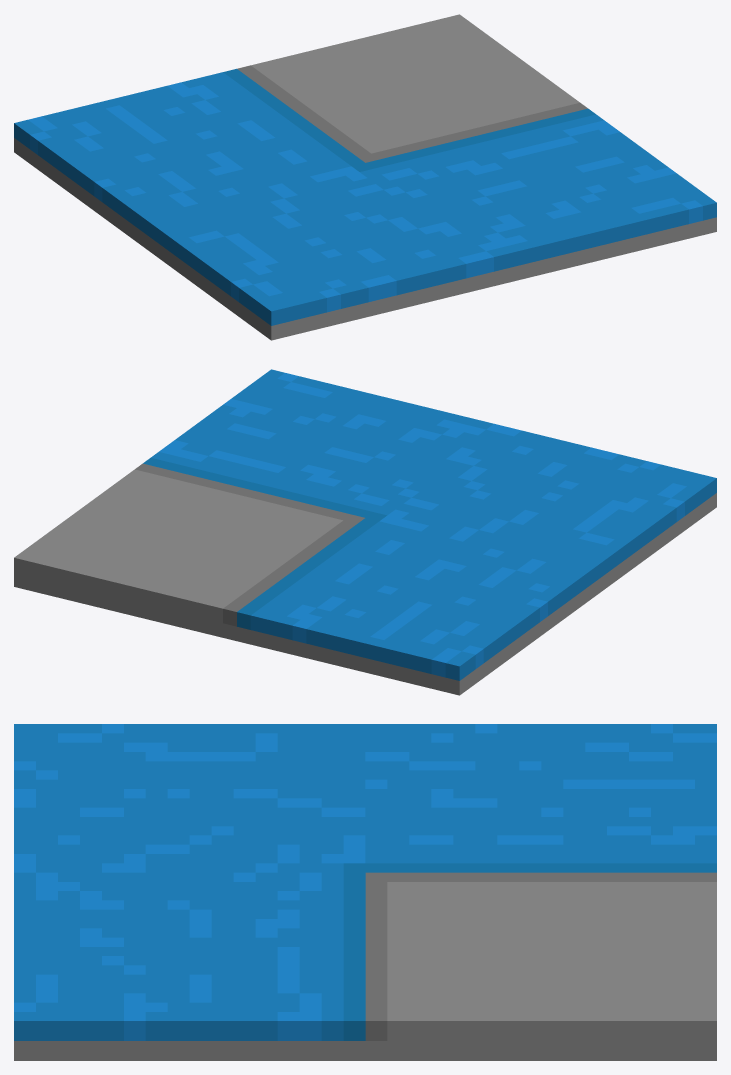
The model's file is city-water-edgy-edge-outer-1.gltf.
The picture shows the model from 3 angles, top to bottom: view 1: azimuth 30°, elevation 25°; view 2: azimuth 150°, elevation 25°; view 3: azimuth 270°, elevation 25°; orthographic projection. The views are drawn at different scales.
Parts seen in each view (by area): view 1: city-water-edgy-edge-outer-1_model; view 2: city-water-edgy-edge-outer-1_model; view 3: city-water-edgy-edge-outer-1_model.
Boxes of the visible parts, bbox=[...] form: city-water-edgy-edge-outer-1_model: bbox=[14, 14, 716, 340]; city-water-edgy-edge-outer-1_model: bbox=[14, 369, 716, 695]; city-water-edgy-edge-outer-1_model: bbox=[14, 724, 716, 1060].
Bounding box in the file's own units: 3.2 × 0.2 × 3.2.
Materials: 1 (1 with a texture image).
